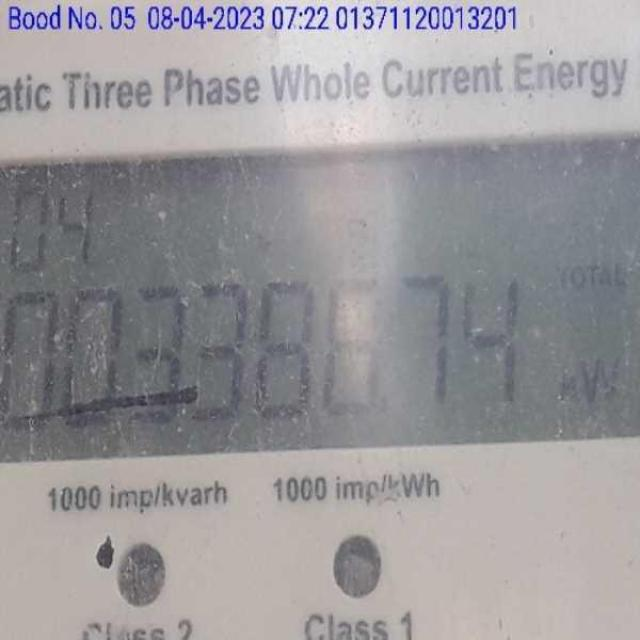0: (56, 283, 126, 432), (0, 288, 60, 445)
3: (191, 272, 253, 435), (128, 278, 191, 432)
4: (458, 268, 530, 426)
6: (319, 272, 398, 430)
7: (397, 265, 461, 419)
8: (255, 274, 322, 427)
Digital meter: (0, 149, 640, 450)
point: (376, 394, 397, 424)
